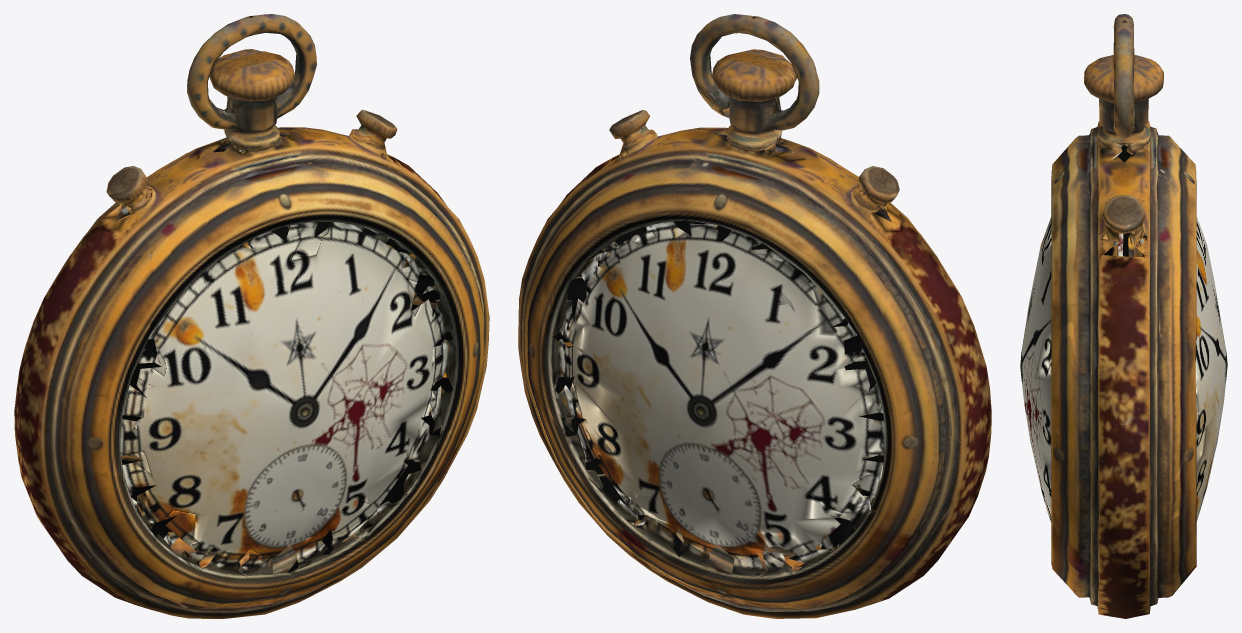
File: item.obj
3 renders of one model, left to right at view 1: azimuth 30°, elevation 25°; view 2: azimuth 150°, elevation 25°; view 3: azimuth 270°, elevation 25°, orthographic. The views are drawn at different scales.
Visible parts, largest first — view 1: Meshy_AI_a_tarnished_brass_sto_0607235304_texture; view 2: Meshy_AI_a_tarnished_brass_sto_0607235304_texture; view 3: Meshy_AI_a_tarnished_brass_sto_0607235304_texture.
Part boxes in pixels (x1,y1,x2,y2): Meshy_AI_a_tarnished_brass_sto_0607235304_texture: [14, 14, 489, 618]; Meshy_AI_a_tarnished_brass_sto_0607235304_texture: [518, 14, 991, 618]; Meshy_AI_a_tarnished_brass_sto_0607235304_texture: [1020, 14, 1227, 618].
Size of the model in its own units: 1.54 by 1.92 by 0.6262.
1 material, 1 textured.
